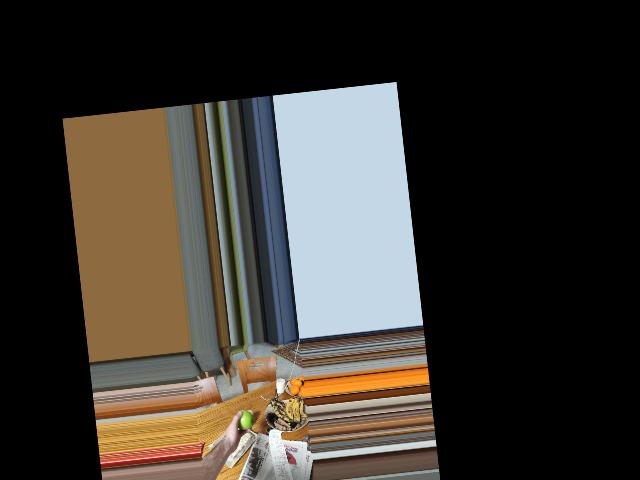apple: (232, 408, 255, 433)
